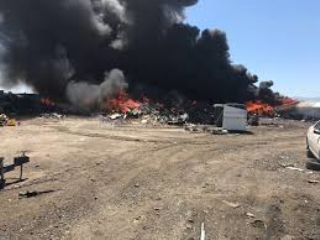fire: (239, 96, 297, 118), (108, 98, 150, 118)
smoke: (12, 5, 271, 94)
